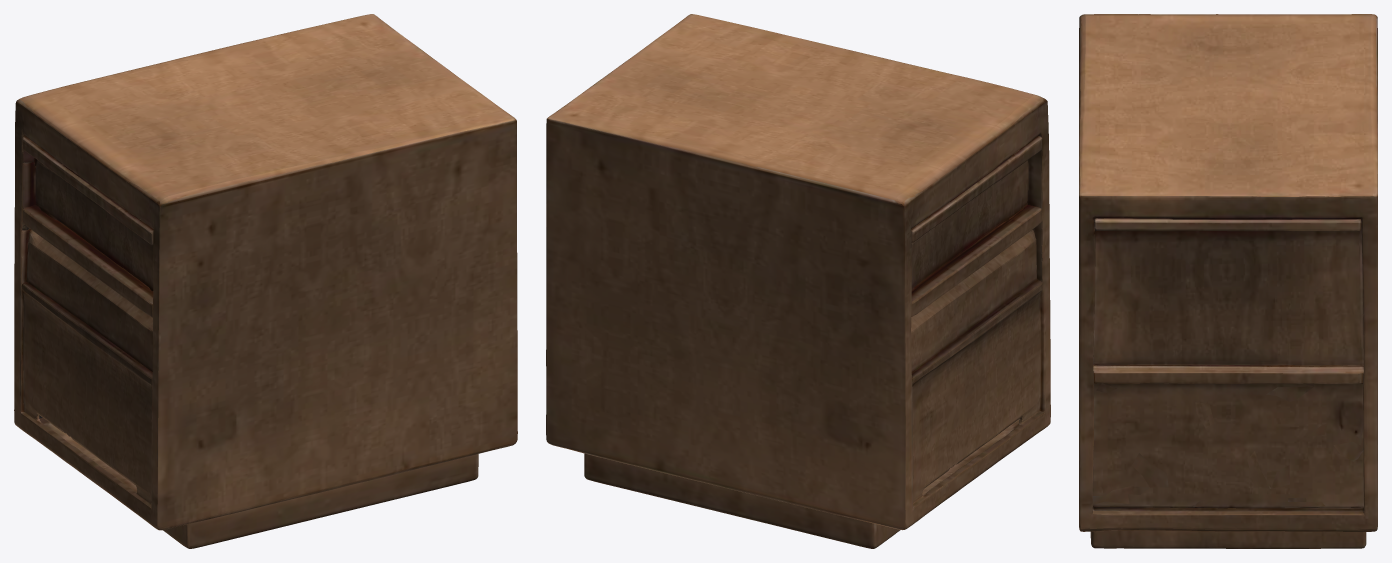
The model's file is bedside-table.glb.
The picture shows the model from 3 angles, left to right: view 1: azimuth 30°, elevation 25°; view 2: azimuth 150°, elevation 25°; view 3: azimuth 270°, elevation 25°; orthographic projection. The views are drawn at different scales.
Visible parts, largest first — view 1: geometry_0; view 2: geometry_0; view 3: geometry_0.
Part boxes in pixels (bbox=[...]): geometry_0: bbox=[14, 14, 517, 548]; geometry_0: bbox=[546, 14, 1050, 548]; geometry_0: bbox=[1079, 14, 1377, 548].
Bounding box in the file's own units: 0.52 × 0.5 × 0.36.
Materials: 1 (1 with a texture image).
